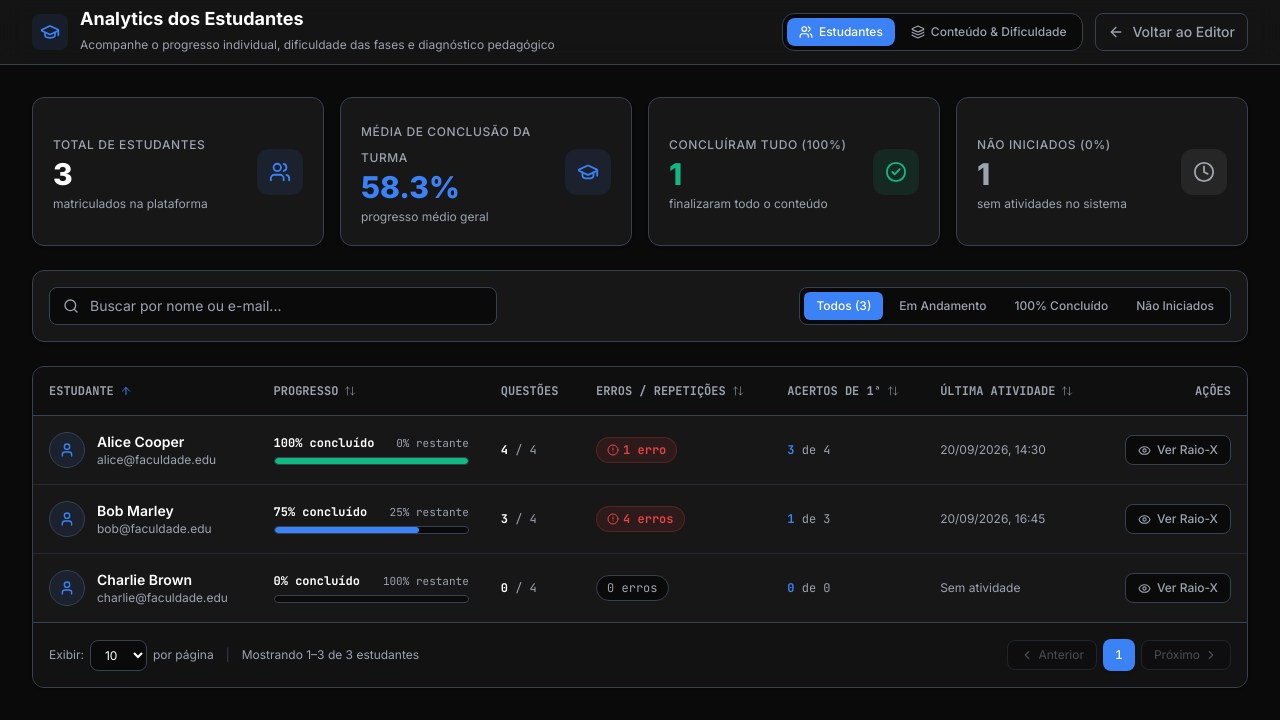
Test case: StudentAnalyticsDashboard Interface (SPEC-007 v2.8.0 - TDD Fase Vermelha) › deve permitir buscar estudantes em tempo real por nome ou e-mail
Note: Buscar por Alice
In the field with placeholder "Buscar por nome ou e-mail...": (273, 306) [49,287,497,325], type "Alice"
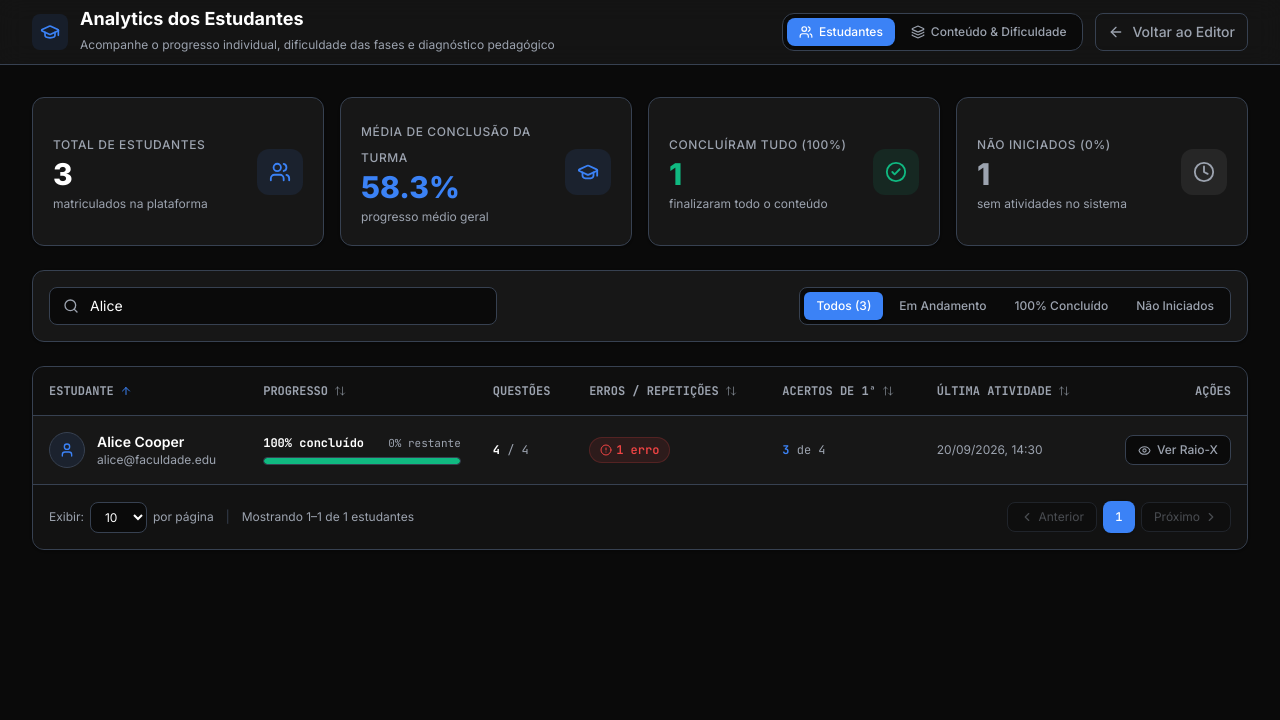
Expected: the text "Alice Cooper" is shown, [97,433,184,450]
Result: the text "Bob Marley" is gone
Result: the text "Charlie Brown" is gone
